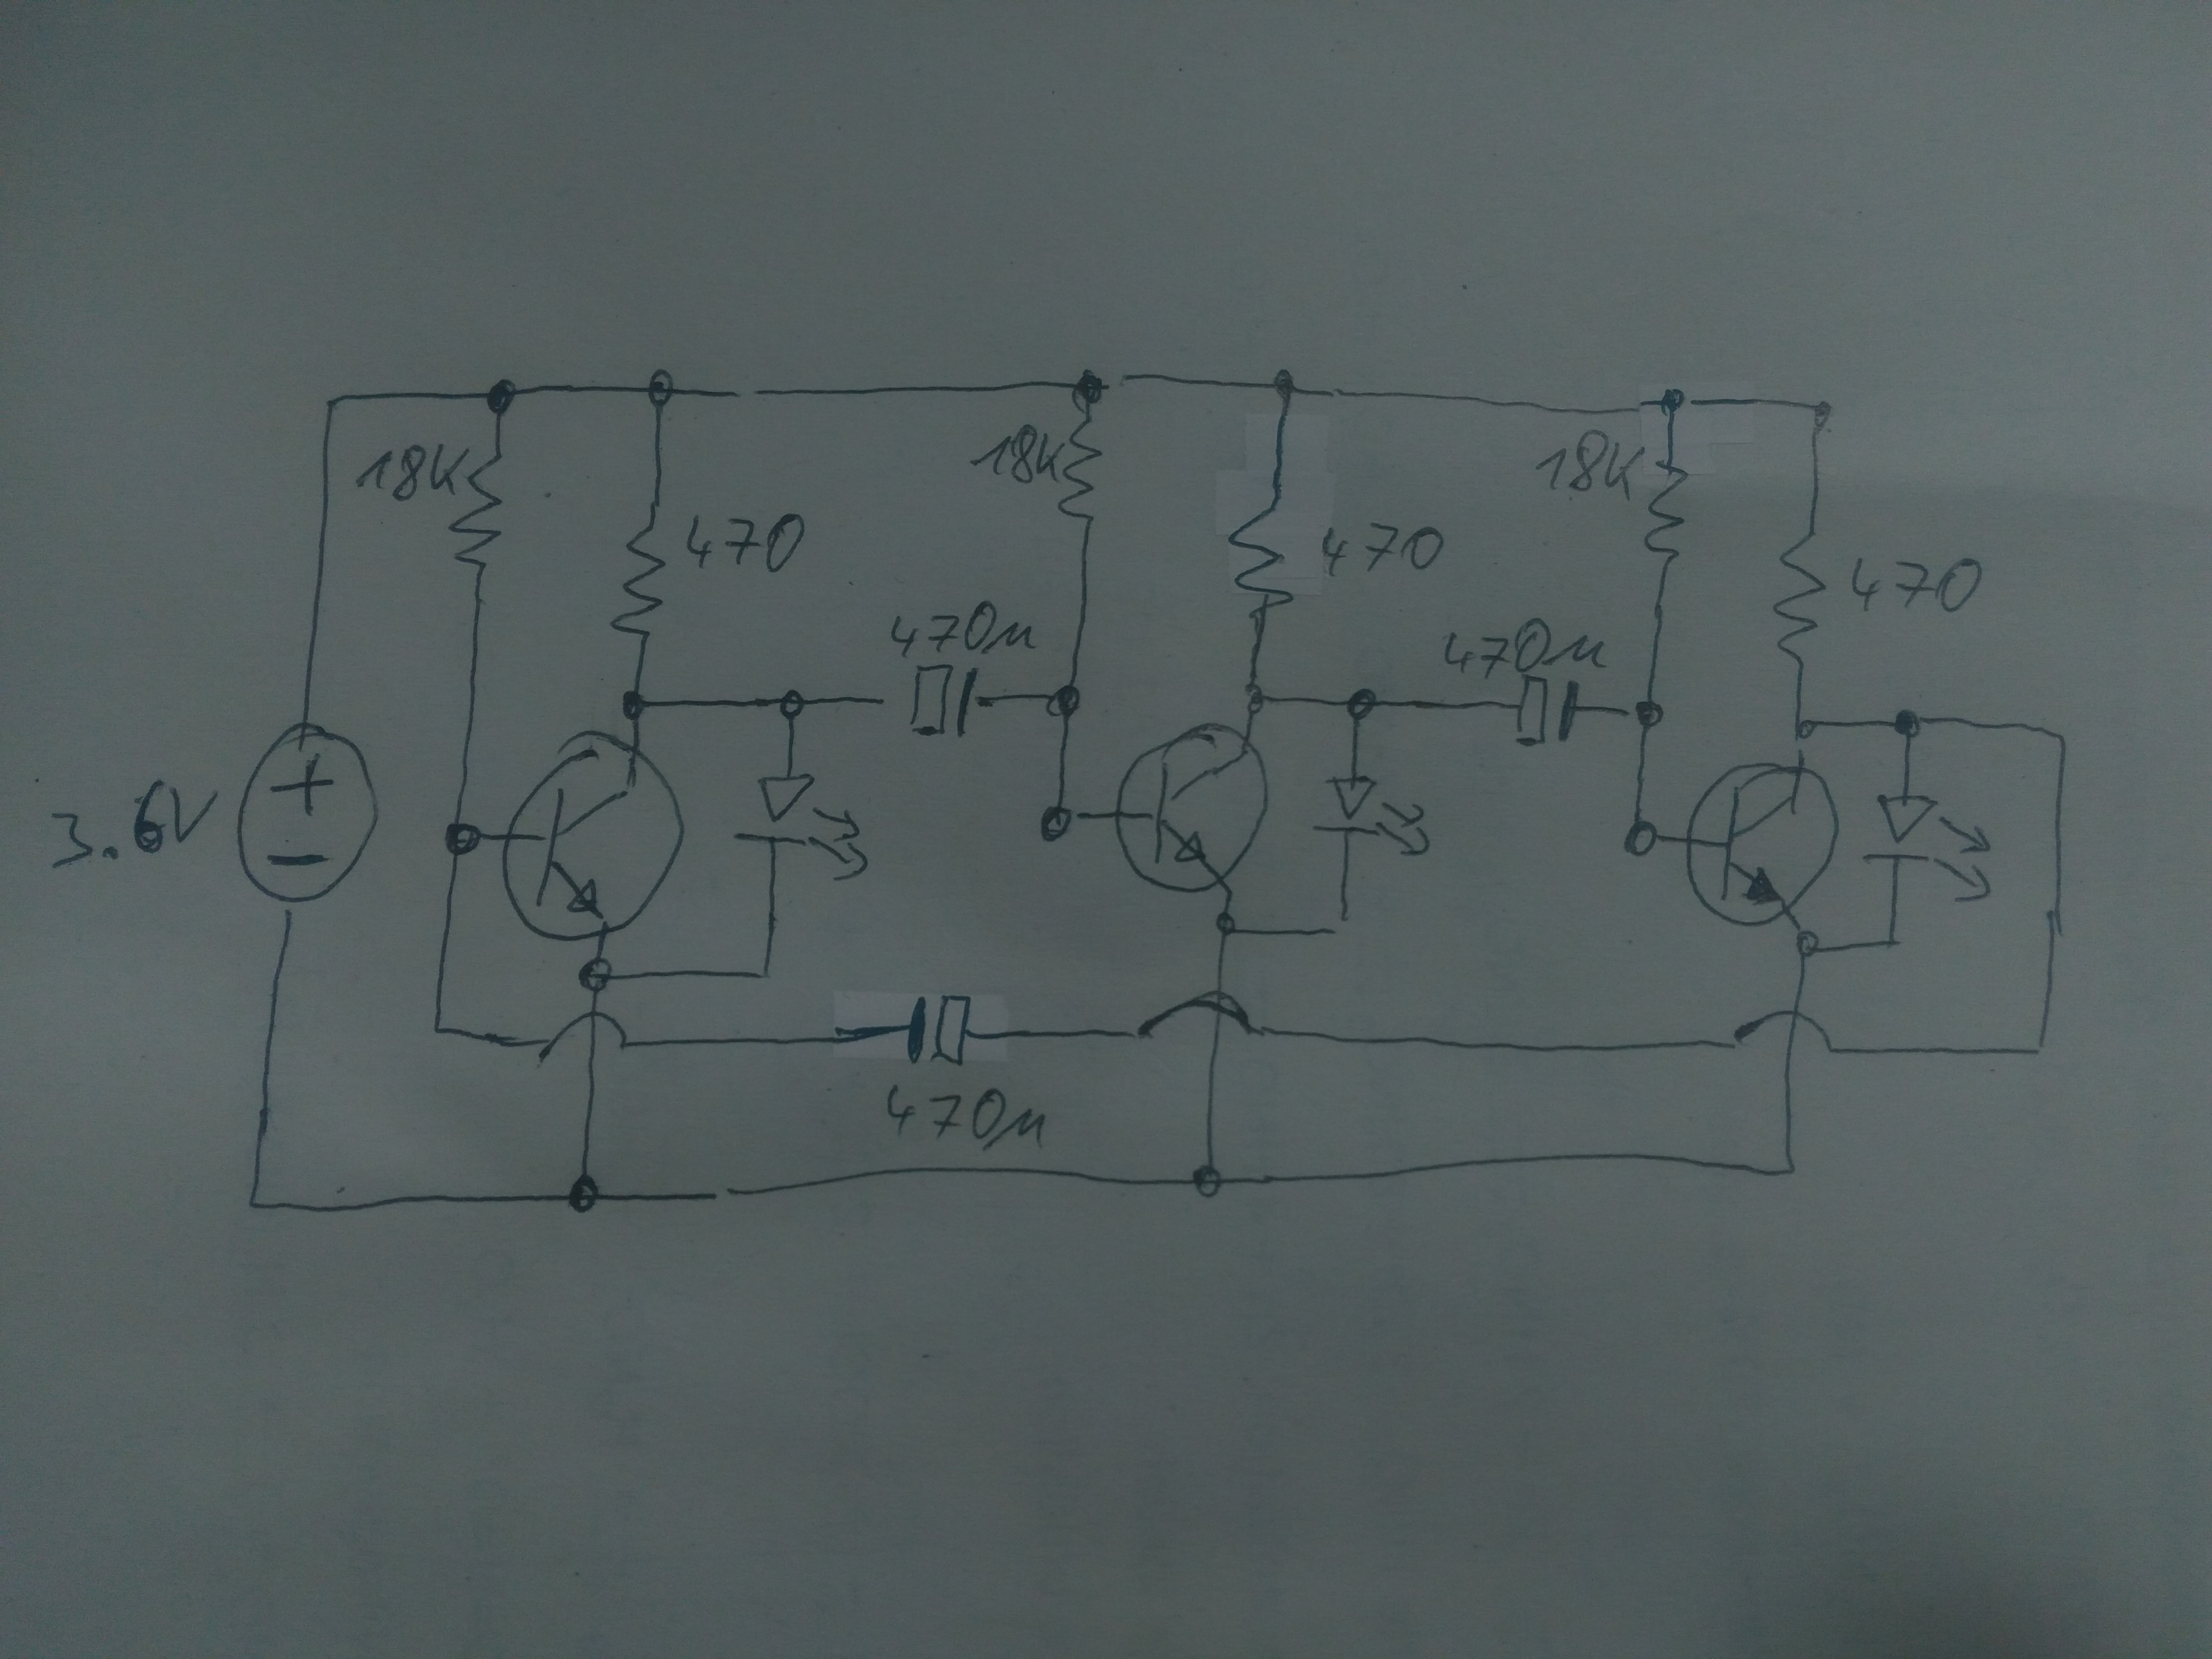capacitor.polarized: (907, 662, 981, 741), (1512, 671, 1581, 749), (902, 993, 972, 1068)
crossover: (1129, 985, 1273, 1049), (1724, 1006, 1848, 1060), (528, 1009, 641, 1065)
diode.light_emitting: (728, 772, 873, 885), (1857, 791, 1996, 904), (1312, 774, 1435, 861)
junction: (1035, 796, 1078, 847), (563, 1173, 604, 1216), (1186, 1161, 1230, 1201), (641, 366, 679, 410), (1623, 816, 1662, 859), (439, 819, 484, 856), (1768, 1152, 1810, 1190), (577, 955, 618, 993), (481, 375, 519, 415), (1071, 368, 1111, 406), (1047, 681, 1085, 720), (1629, 695, 1667, 732), (1345, 685, 1379, 723), (618, 687, 651, 721), (777, 687, 810, 721), (1792, 927, 1825, 962), (237, 1183, 273, 1215), (1270, 368, 1303, 401), (1209, 908, 1240, 943), (1240, 678, 1271, 711), (418, 1014, 451, 1046), (1874, 927, 1907, 958), (1893, 708, 1925, 741), (2024, 1032, 2054, 1066), (1804, 399, 1834, 429), (1658, 387, 1686, 416), (1327, 913, 1355, 943), (1792, 714, 1820, 744), (749, 960, 775, 992), (319, 389, 345, 416), (2048, 720, 2073, 748)
resistor: (1224, 495, 1298, 619), (1768, 523, 1829, 671), (606, 518, 671, 647), (446, 448, 507, 582), (1054, 410, 1106, 530), (1641, 451, 1691, 568)
text: (44, 772, 225, 878), (880, 1079, 1052, 1154), (1442, 613, 1611, 683), (887, 596, 1040, 660), (1533, 427, 1646, 504), (1315, 516, 1446, 580), (1848, 554, 1986, 615), (683, 509, 808, 575), (350, 439, 465, 505), (970, 422, 1066, 484)
transistor: (496, 721, 690, 946), (1677, 755, 1844, 932), (1108, 716, 1271, 897)
voltage.dc: (232, 718, 385, 910)
